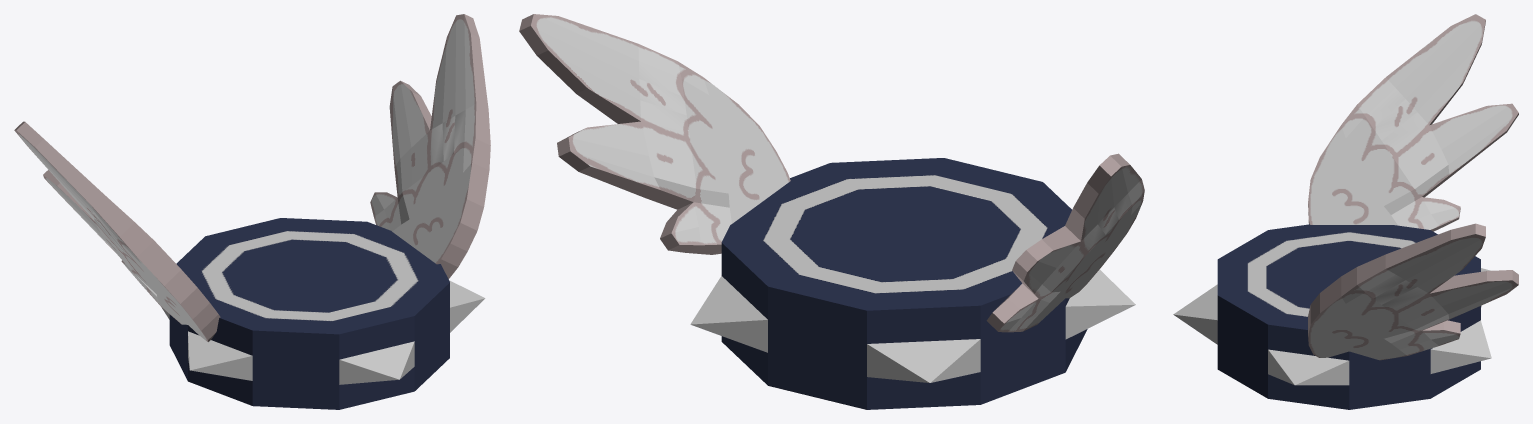
Rendered from puck_spiked_wing_animations (1).fbx.
3 views of the same model, side by side, from view 1: azimuth 30°, elevation 25°; view 2: azimuth 150°, elevation 25°; view 3: azimuth 270°, elevation 25° (orthographic). The views are drawn at different scales.
Visible parts, largest first — view 1: Spiked Puck, Wing 1, Wing 2; view 2: Spiked Puck, Wing 1, Wing 2; view 3: Spiked Puck, Wing 2, Wing 1.
Part boxes in pixels (x1=…): Spiked Puck: x1=161, y1=218, x2=485, y2=409; Wing 1: x1=370, y1=14, x2=490, y2=278; Wing 2: x1=14, y1=121, x2=220, y2=341; Spiked Puck: x1=690, y1=158, x2=1135, y2=409; Wing 1: x1=519, y1=14, x2=790, y2=254; Wing 2: x1=986, y1=153, x2=1144, y2=332; Spiked Puck: x1=1173, y1=224, x2=1491, y2=409; Wing 2: x1=1308, y1=14, x2=1518, y2=231; Wing 1: x1=1308, y1=223, x2=1518, y2=360.
Size of the model in its own units: 3.38 by 1.68 by 2.26.
2 materials, 2 textured.
